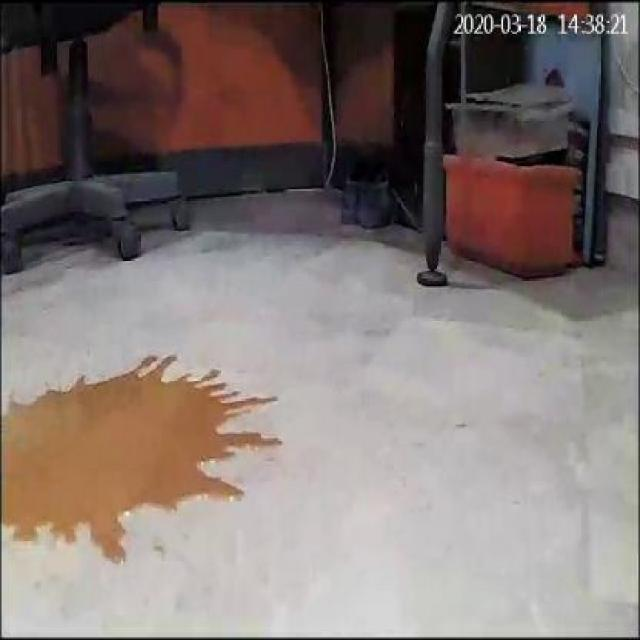spill: (6, 350, 286, 566)
